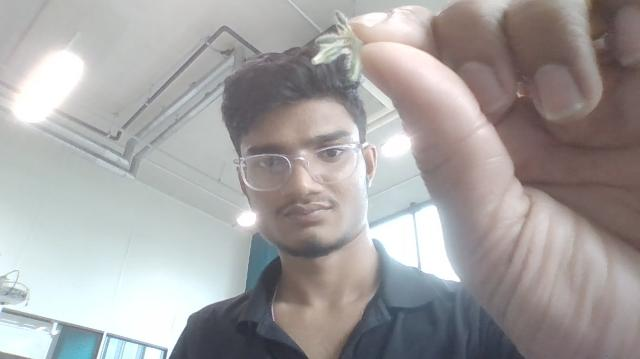Flower Bud: (311, 40, 350, 65), (311, 43, 345, 65), (314, 33, 347, 50), (347, 50, 362, 84), (334, 9, 352, 32)
